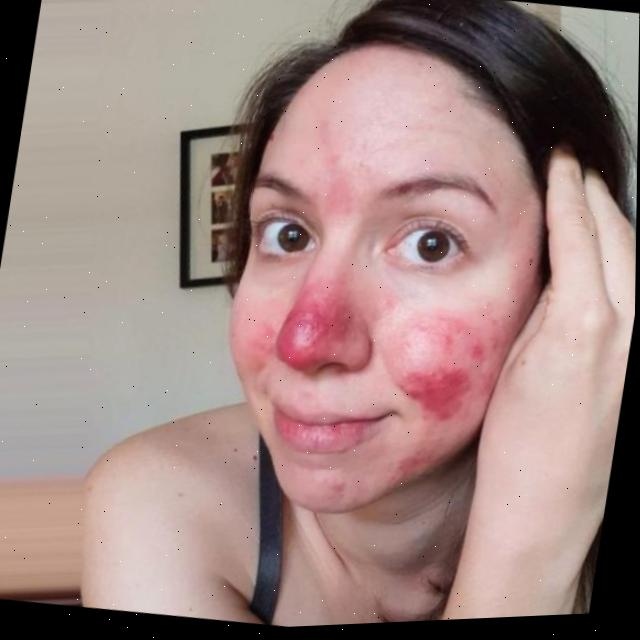Rosacea: (397, 326, 473, 424), (291, 266, 355, 332)
